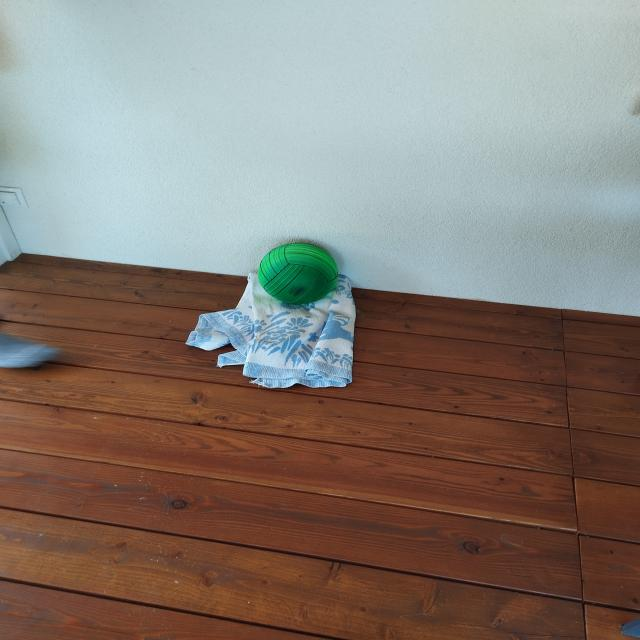zielona: (261, 242, 338, 305)
